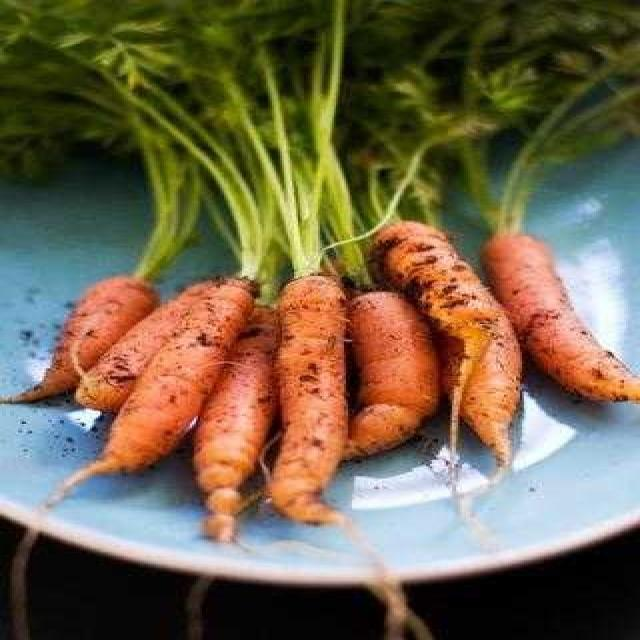carrots: (374, 222, 526, 449), (497, 212, 640, 424), (42, 270, 242, 414), (272, 271, 369, 517)
